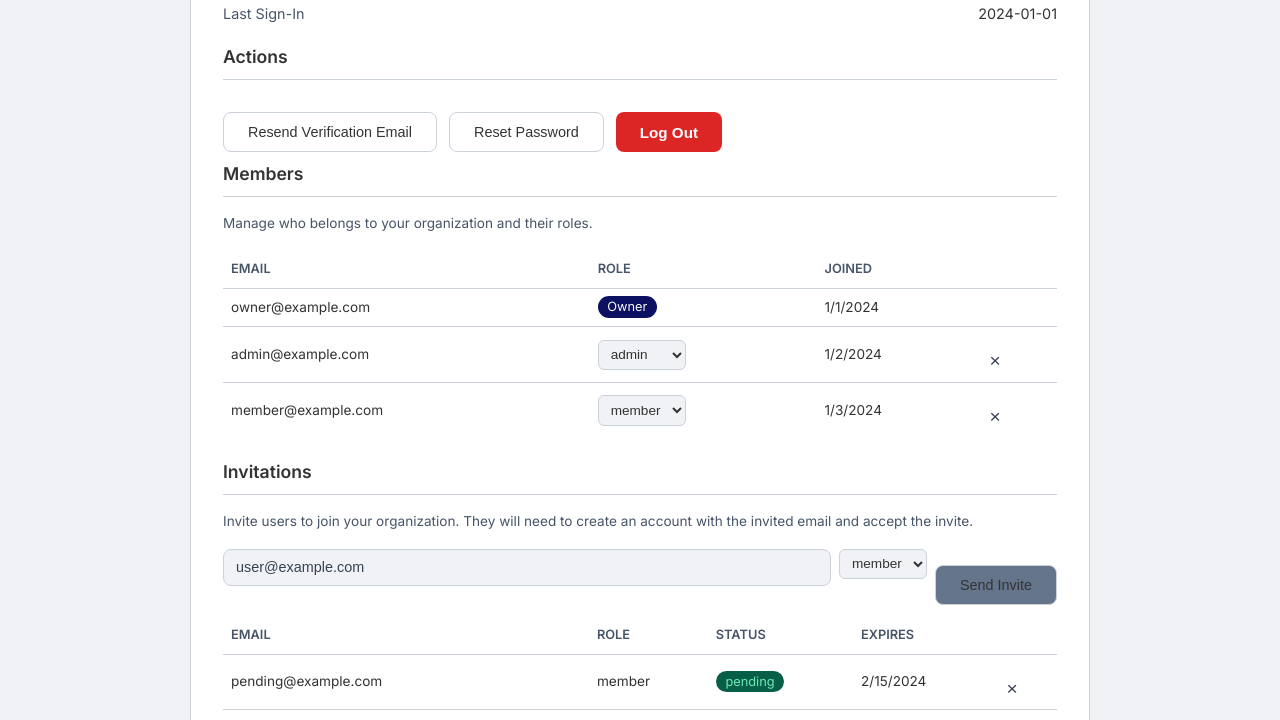
Test: SettingsPage - Member Management › Members Section - Removal › shows error message on removal failure
The image size is (1280, 720).
(page scrolled)
What coordinates should you click on to do the following:
click the button "×" in the row of "admin@example.com"
I would click on:
 (995, 361)
Its box is [985,351,1006,371].
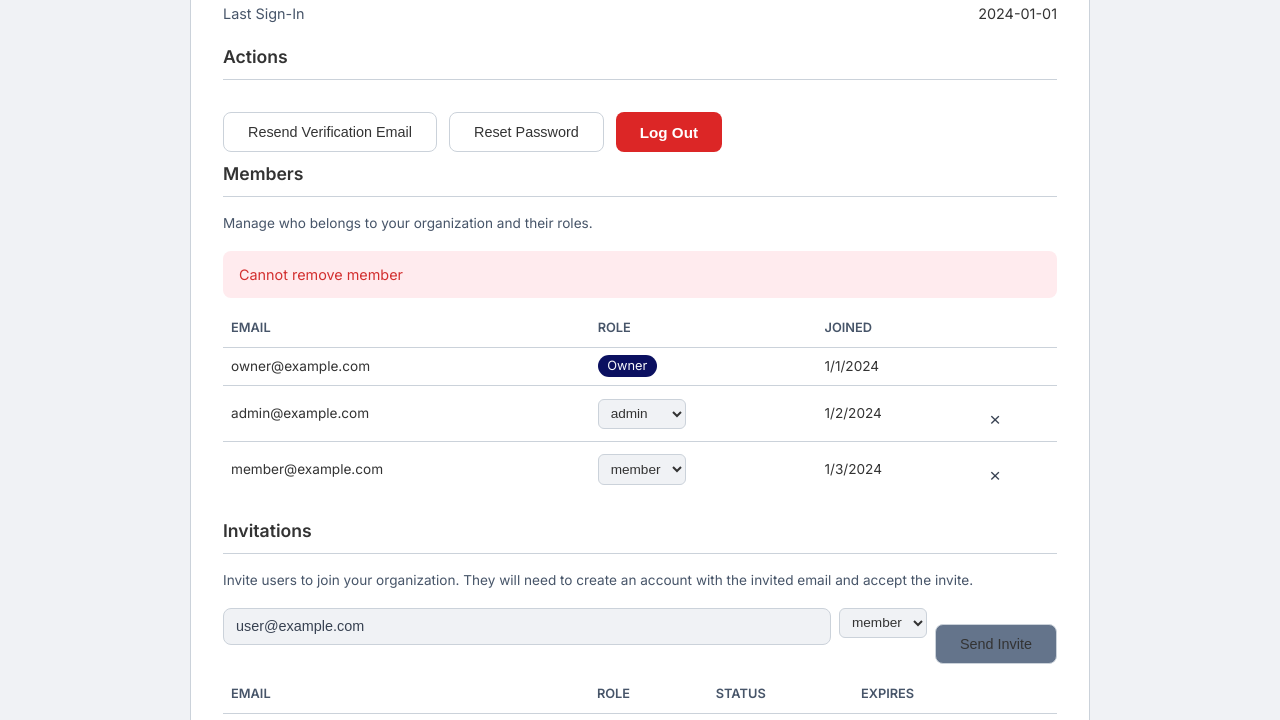
Expected: the text "Cannot remove member" is shown, [223,251,1057,298]
